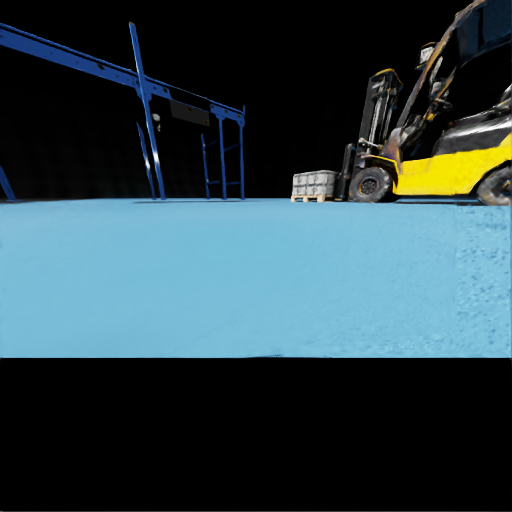transportation_area: (307, 183, 337, 194), (310, 196, 317, 197), (154, 88, 155, 89), (137, 82, 138, 83), (51, 53, 52, 54)
